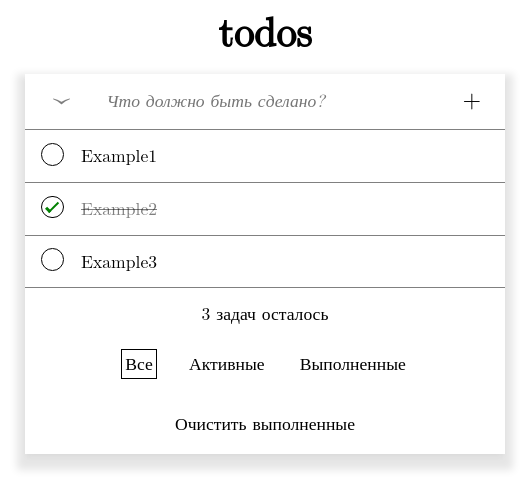
Scenario: ToDo-приложение › Фильтрует задачи при нажатии на кнопки
The width and height of the screenshot is (531, 488).
Check: the text "Example1" is shown, box top-left (81, 148), bottom-right (157, 165)
Check: the text "Example2" is shown, box top-left (81, 201), bottom-right (157, 218)
Click the button "Активные" at (227, 364), box top-left (186, 349), bottom-right (268, 379)
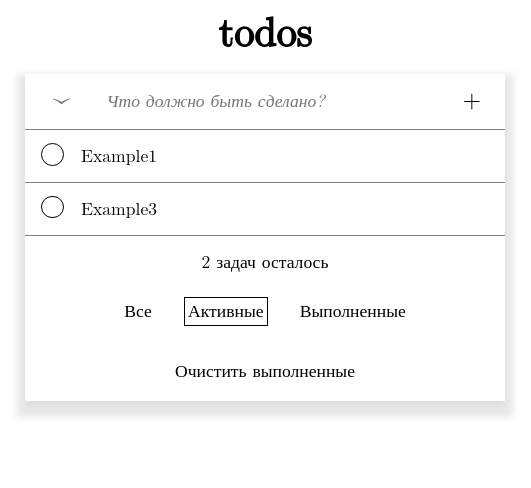
Check: the text "Example1" is shown, box top-left (81, 148), bottom-right (157, 165)
Check: the text "Example2" is gone
Click the button "Выполненные" at (353, 311), box top-left (297, 297), bottom-right (409, 326)
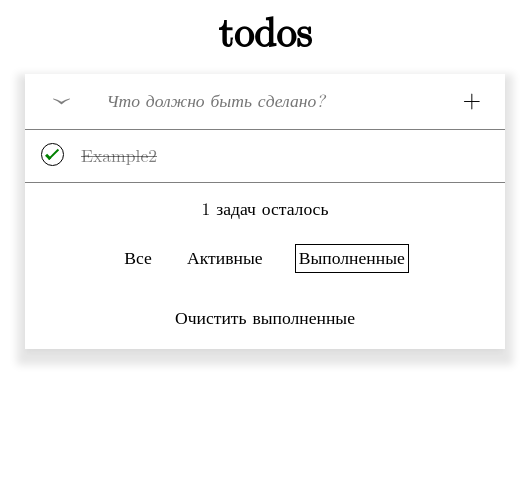
Check: the text "Example1" is gone
Check: the text "Example2" is shown, box top-left (81, 148), bottom-right (157, 165)
Click the button "Все" at (138, 258), box top-left (121, 244), bottom-right (155, 273)
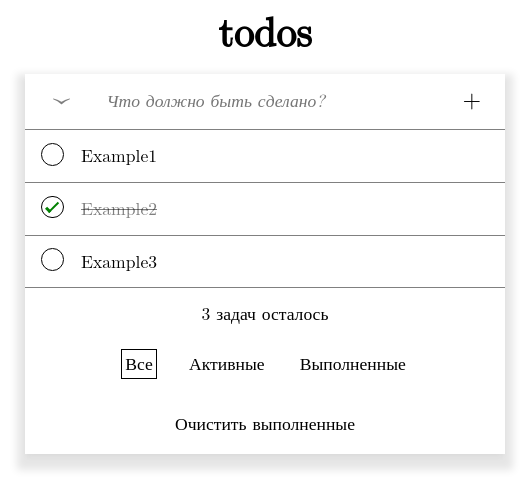
Check: the text "Example2" is shown, box top-left (81, 201), bottom-right (157, 218)
Check: the text "Example1" is shown, box top-left (81, 148), bottom-right (157, 165)
